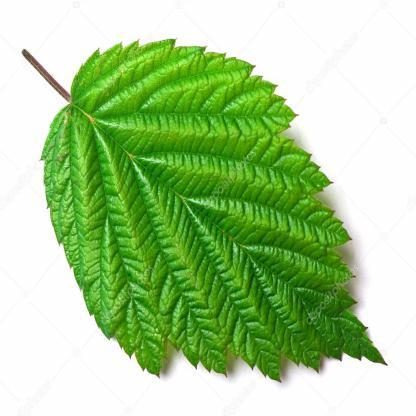Raspberry leaf: (40, 41, 392, 382)
